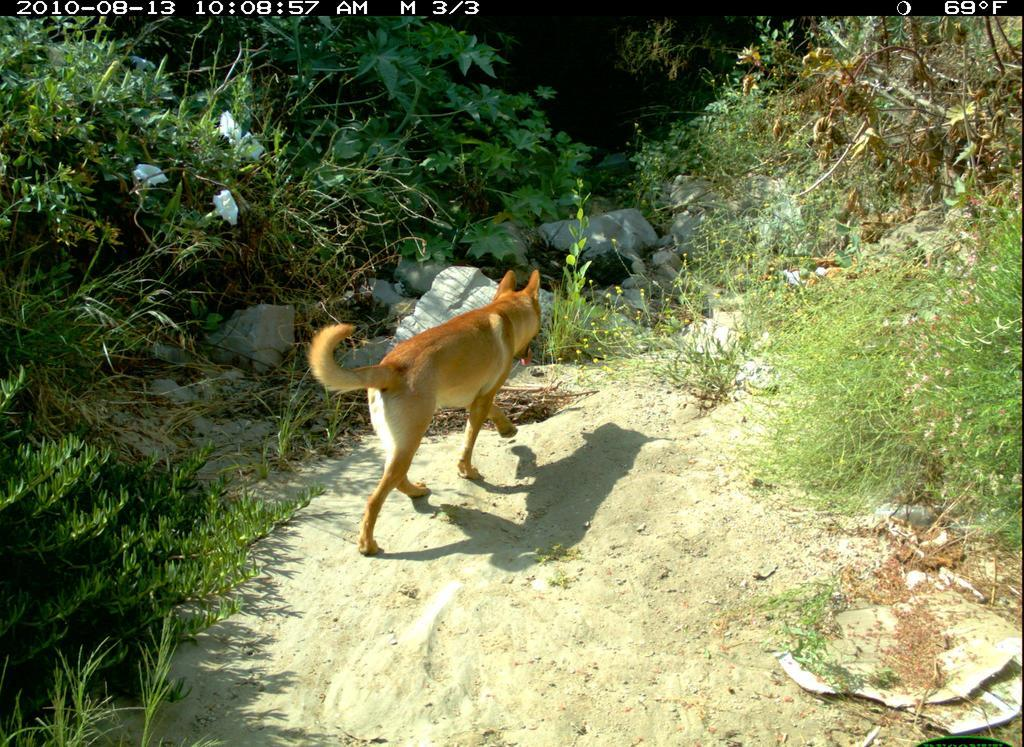dog: (300, 259, 580, 564)
